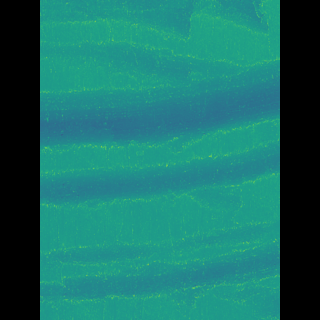Loch: (68, 50, 251, 156), (69, 221, 249, 319), (69, 133, 250, 211), (69, 0, 242, 47)
